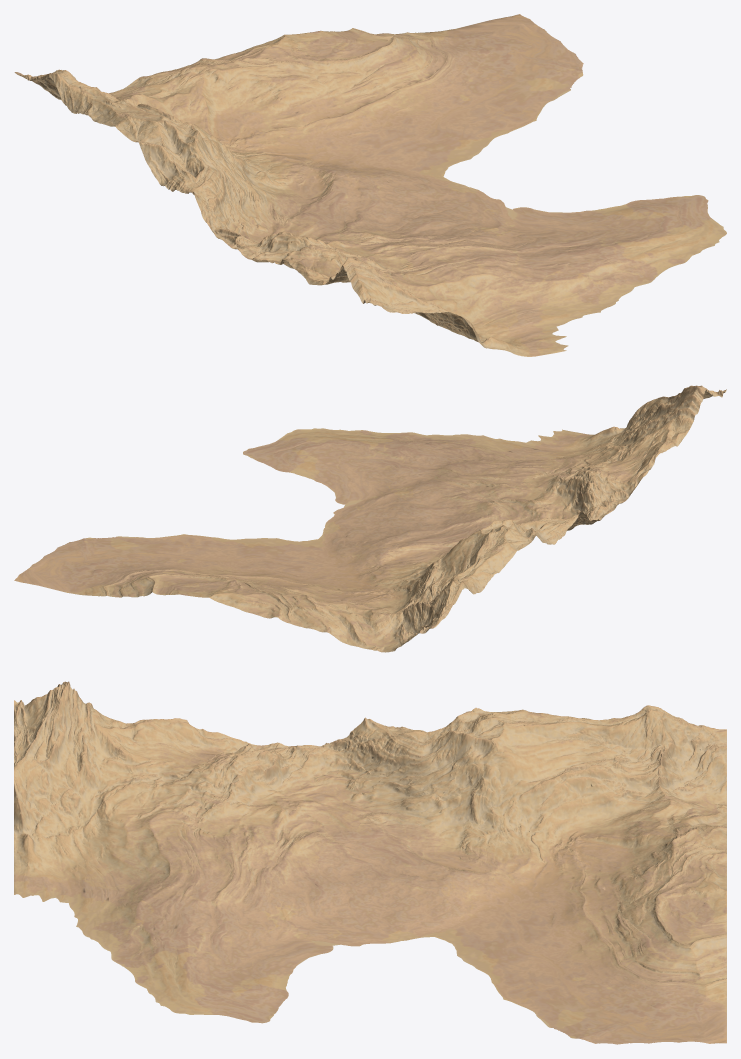
Rendered from terrain.glb.
3 views of the same model, one above another, from view 1: azimuth 30°, elevation 25°; view 2: azimuth 150°, elevation 25°; view 3: azimuth 270°, elevation 25° (orthographic). The views are drawn at different scales.
Visible parts, largest first — view 1: Plane_Material.001_0; view 2: Plane_Material.001_0; view 3: Plane_Material.001_0.
Part boxes in pixels (x1,y1,x2,y2): Plane_Material.001_0: (14, 14, 726, 356); Plane_Material.001_0: (14, 385, 726, 652); Plane_Material.001_0: (14, 681, 726, 1044).
Bounding box in the file's own units: 1324 × 297 × 1599.
Materials: 1 (1 with a texture image).
